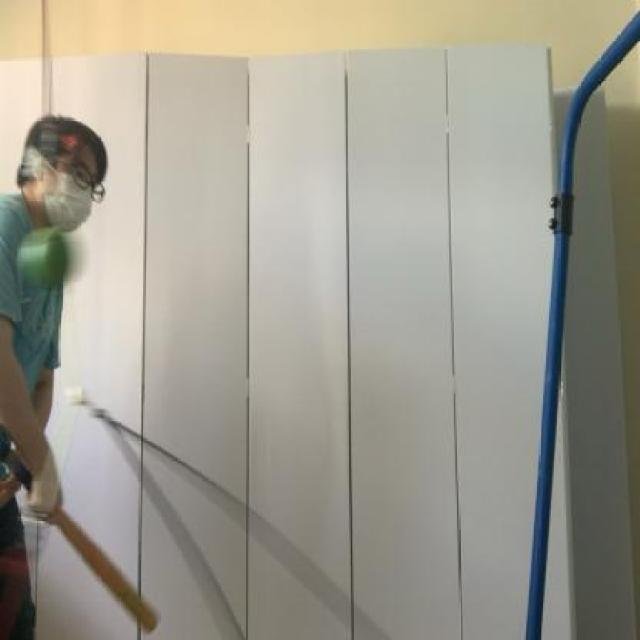baseball: (15, 218, 96, 294)
